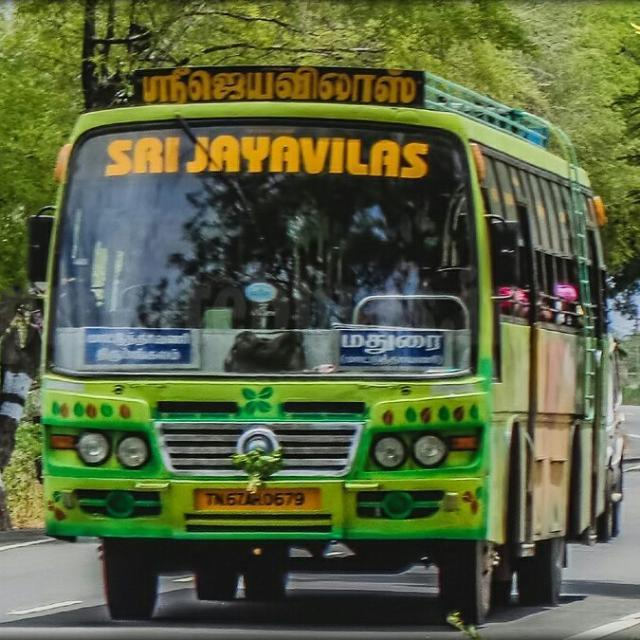Bus: (22, 59, 609, 630)
